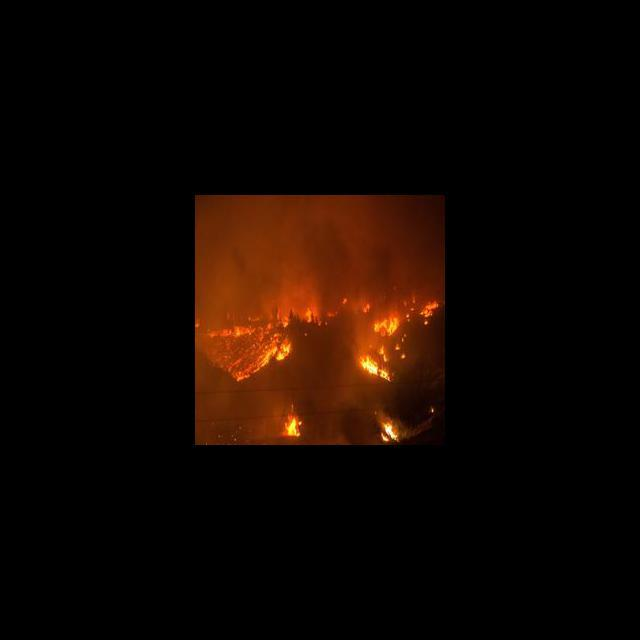Fire: (208, 318, 291, 382), (357, 353, 391, 383), (276, 405, 306, 438), (368, 312, 401, 337), (304, 307, 335, 326), (378, 417, 398, 443), (418, 294, 437, 320)
